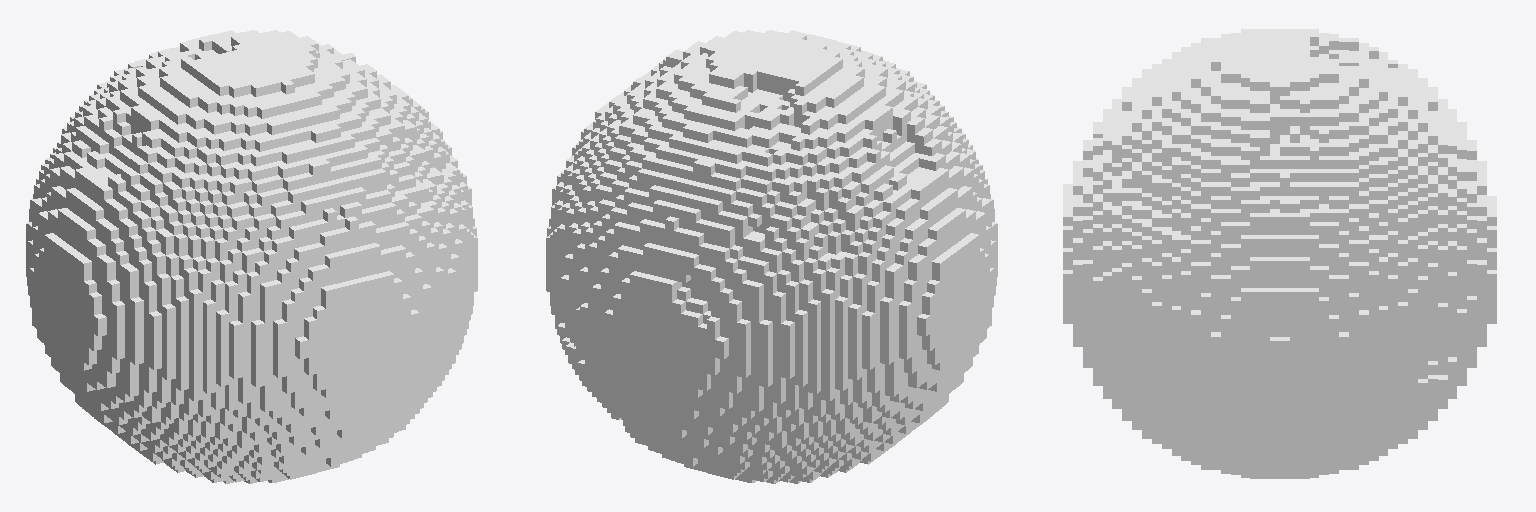
The model's file is Ateroid.obj.
The picture shows the model from 3 angles: view 1: azimuth 30°, elevation 25°; view 2: azimuth 150°, elevation 25°; view 3: azimuth 270°, elevation 25°; orthographic projection.
Size of the model in its own units: 45 by 44 by 44.